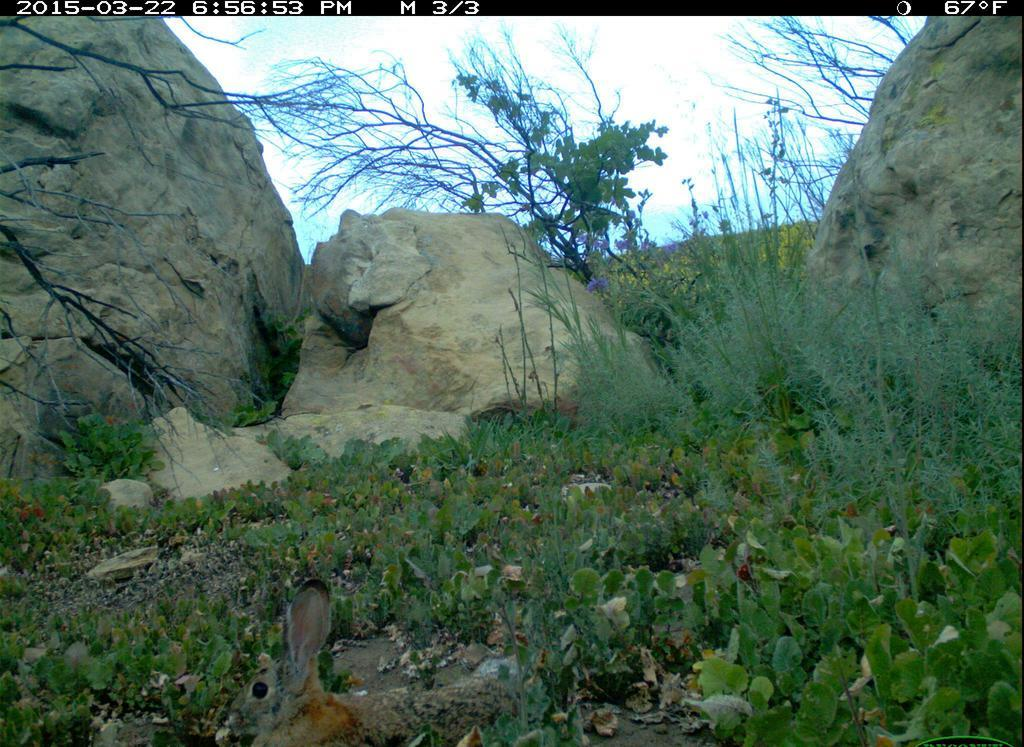rabbit: (222, 561, 539, 747)
